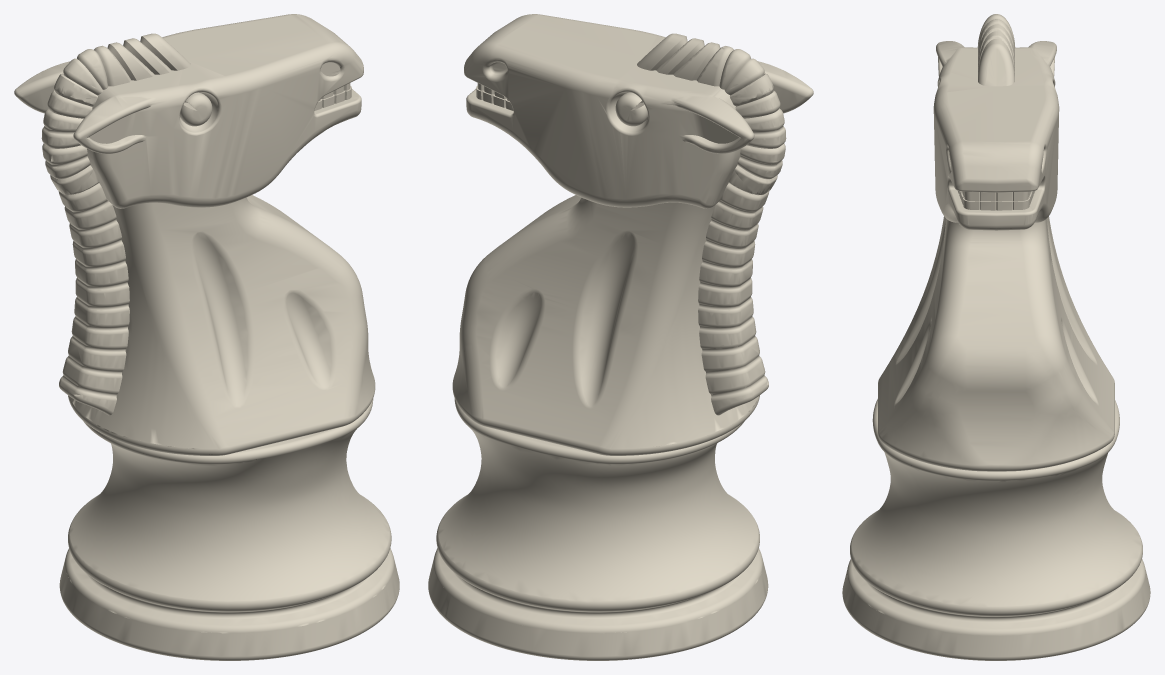
Rendered from caballo.glb.
The picture shows the model from 3 angles, left to right: view 1: azimuth 30°, elevation 25°; view 2: azimuth 150°, elevation 25°; view 3: azimuth 270°, elevation 25°; orthographic projection. The views are drawn at different scales.
Parts seen in each view (by area): view 1: Object_2; view 2: Object_2; view 3: Object_2.
Boxes of the visible parts, bbox=[...] form: Object_2: bbox=[14, 14, 399, 660]; Object_2: bbox=[428, 14, 813, 660]; Object_2: bbox=[842, 14, 1150, 660].
Bounding box in the file's own units: 40.24 × 66.57 × 35.68.
